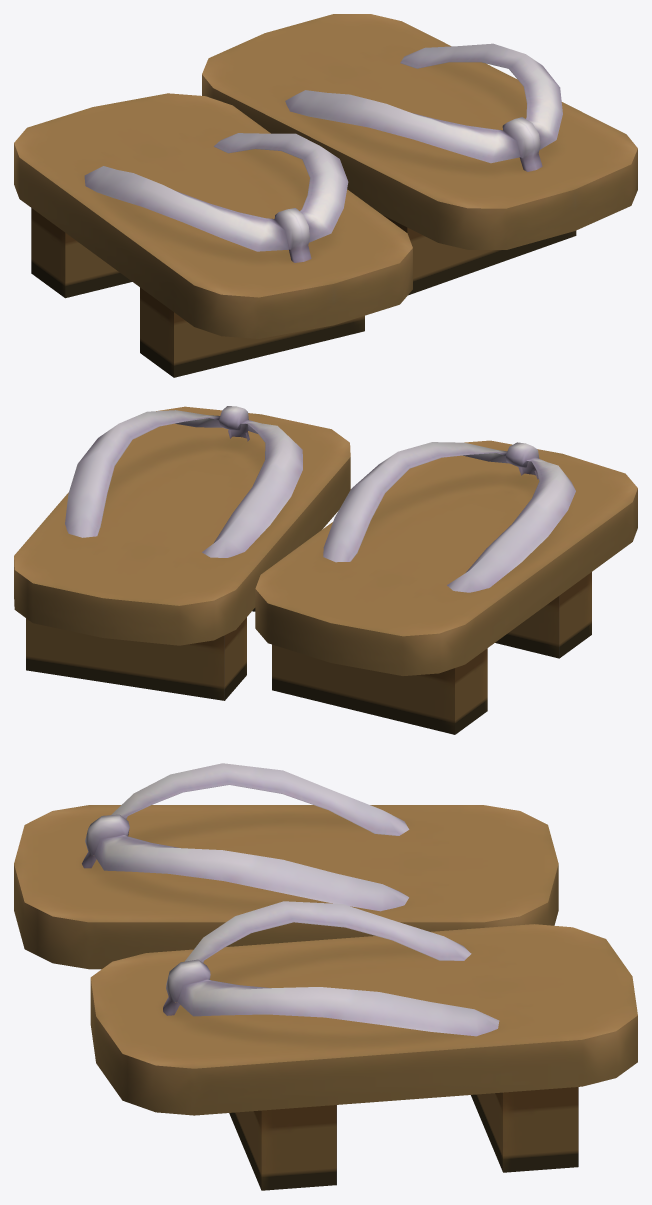
3 renders of one model, top to bottom at view 1: azimuth 30°, elevation 25°; view 2: azimuth 150°, elevation 25°; view 3: azimuth 270°, elevation 25°, orthographic. The views are drawn at different scales.
Parts seen in each view (by area): view 1: wq_wj010_02; view 2: wq_wj010_02; view 3: wq_wj010_02.
Part boxes in pixels (x1,y1,x2,y2): wq_wj010_02: (14,14,637,377); wq_wj010_02: (14,406,637,734); wq_wj010_02: (14,763,637,1190).
Bounding box in the file's own units: 50.3 × 16.93 × 50.3.
1 material, 1 textured.
